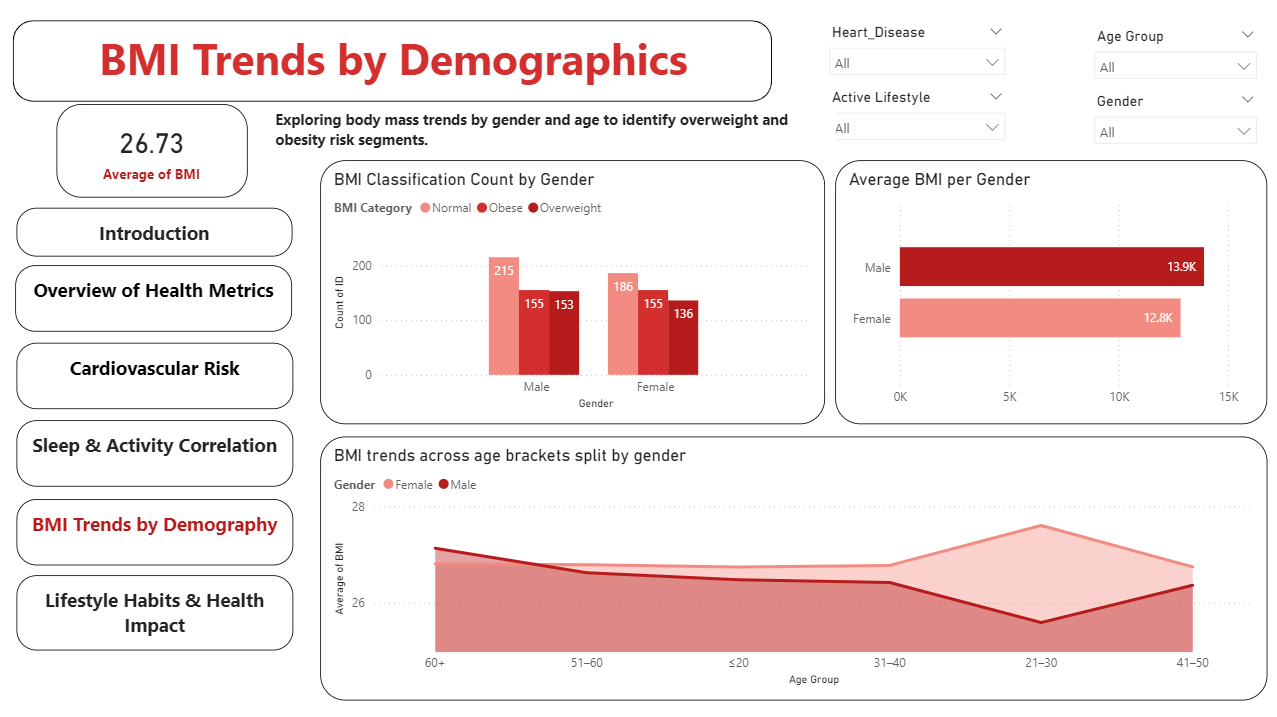

Layout of this report page (visuals, bound fields, positions):
{"tool":"powerbi","page":{"name":"BMI Trends by Demographics","canvas":[1280,720],"ordinal":4},"visuals":[{"type":"card","fields":{"Values":["Avg(Health_Data.BMI)"]},"box":[57.7,105.2,191.1,93.8],"z":0},{"type":"areaChart","title":"BMI trends across age brackets split by gender","fields":{"Category":["Health_Data.Age Group"],"Y":["Avg(Health_Data.BMI)"],"Series":["Health_Data.Gender"]},"box":[320.7,438,947.5,263.8],"z":1000},{"type":"clusteredColumnChart","title":"BMI Classification Count by Gender","fields":{"Category":["Health_Data.Gender"],"Y":["CountNonNull(Health_Data.ID)"],"Series":["Health_Data.BMI Category"]},"box":[320.7,160.9,504.6,263.8],"z":2000},{"type":"clusteredBarChart","title":"Average BMI per Gender","fields":{"Category":["Health_Data.Gender"],"Y":["Sum(Health_Data.BMI)"]},"box":[836.2,160.9,432,263.8],"z":3000},{"type":"slicer","fields":{"Values":["Health_Data.Age Group"]},"box":[1085.4,24.2,182.7,64.1],"z":4000},{"type":"slicer","fields":{"Values":["Health_Data.Gender"]},"box":[1085.4,88.3,182.7,64.1],"z":5000},{"type":"slicer","fields":{"Values":["Health_Data.Heart_Disease"]},"box":[820.4,20.6,196,64.1],"z":6000},{"type":"slicer","fields":{"Values":["Health_Data.Active Lifestyle"]},"box":[820.4,84.7,196,65.3],"z":7000},{"type":"shape","box":[14,20.9,759.3,81.4],"z":8000},{"type":"textbox","box":[53.5,24.4,681.4,74.4],"z":9000},{"type":"textbox","box":[16.3,266.3,276.7,66.3],"z":10000},{"type":"textbox","box":[17.4,344.2,276.7,66.3],"z":11000},{"type":"textbox","box":[17.4,420.9,276.7,66.3],"z":12000},{"type":"textbox","box":[17.4,500,276.7,66.3],"z":13000},{"type":"textbox","box":[17.4,576.7,276.7,75.6],"z":14000},{"type":"shape","box":[15.7,343.7,275.9,66.6],"z":15000},{"type":"shape","box":[16.9,421.1,275.9,66.6],"z":16000},{"type":"shape","box":[15.8,266.8,277,66.7],"z":17000},{"type":"shape","box":[17,576.6,275.9,75.8],"z":18000},{"type":"textbox","box":[271.4,105.2,565.3,55.4],"z":19000},{"type":"textbox","box":[17,209.2,275.9,48.6],"z":20000},{"type":"shape","box":[15.8,209.2,277,48.6],"z":21000}]}

Visuals, with their boxes in screenshot pixels (x1, y1, x2, y2), scaled from the page's 1280x720 canvas onto the 1277x717 screenshot:
card - Avg(Health_Data.BMI): select_region(58, 105, 248, 198)
"BMI trends across age brackets split by gender" areaChart: select_region(320, 436, 1265, 699)
"BMI Classification Count by Gender" clusteredColumnChart: select_region(320, 160, 823, 423)
"Average BMI per Gender" clusteredBarChart: select_region(834, 160, 1265, 423)
slicer - Health_Data.Age Group: select_region(1083, 24, 1265, 88)
slicer - Health_Data.Gender: select_region(1083, 88, 1265, 152)
slicer - Health_Data.Heart_Disease: select_region(818, 21, 1014, 84)
slicer - Health_Data.Active Lifestyle: select_region(818, 84, 1014, 149)
shape: select_region(14, 21, 771, 102)
textbox: select_region(53, 24, 733, 98)
textbox: select_region(16, 265, 292, 331)
textbox: select_region(17, 343, 293, 409)
textbox: select_region(17, 419, 293, 485)
textbox: select_region(17, 498, 293, 564)
textbox: select_region(17, 574, 293, 650)
shape: select_region(16, 342, 291, 409)
shape: select_region(17, 419, 292, 486)
shape: select_region(16, 266, 292, 332)
shape: select_region(17, 574, 292, 650)
textbox: select_region(271, 105, 835, 160)
textbox: select_region(17, 208, 292, 257)
shape: select_region(16, 208, 292, 257)
